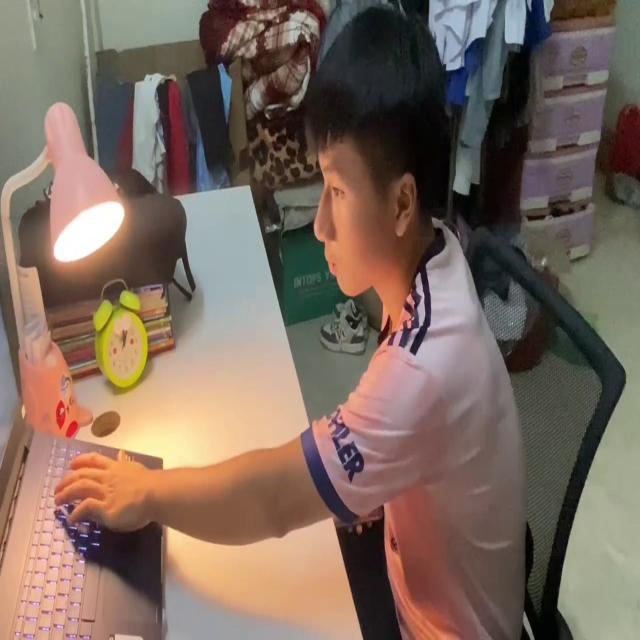laptop: (0, 297, 164, 640)
student: (50, 0, 532, 640)
